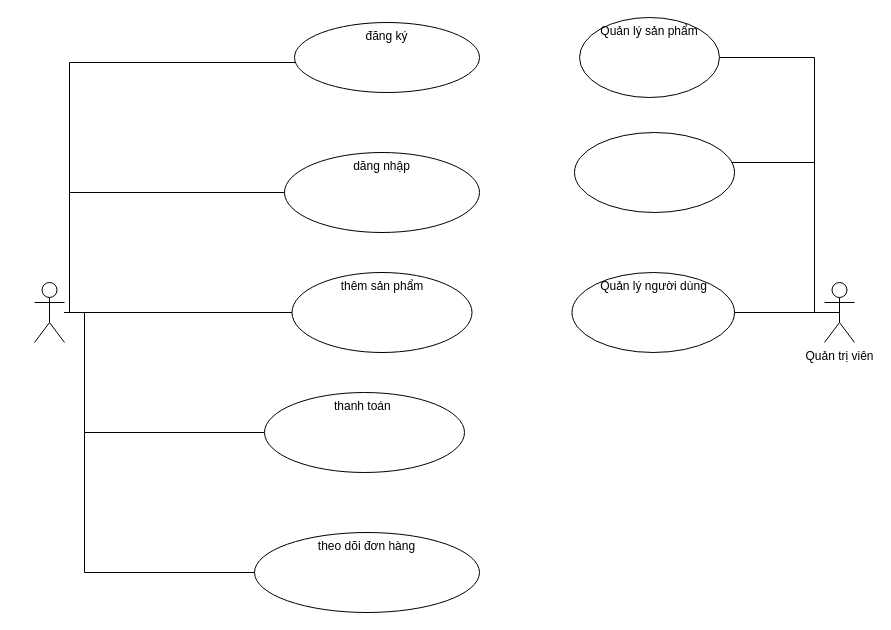
The diagram is 891 pixels wide and 630 high, and some of its shapes have lost their labels. The centre of each missing label's shape, as x and y in pixels:
Người dùng: the point at 49,312
Quản lý đơn hàng: the point at 654,172
